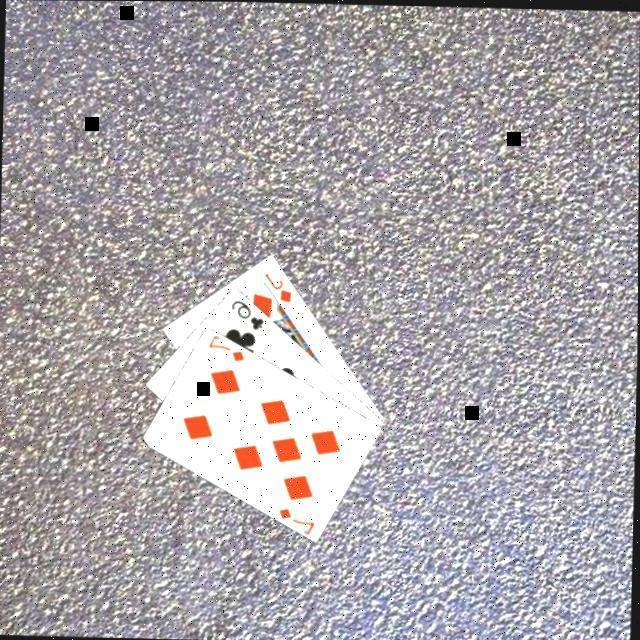6C: (229, 296, 270, 332)
7D: (206, 333, 249, 364), (277, 504, 320, 535)
JD: (262, 269, 297, 306)
